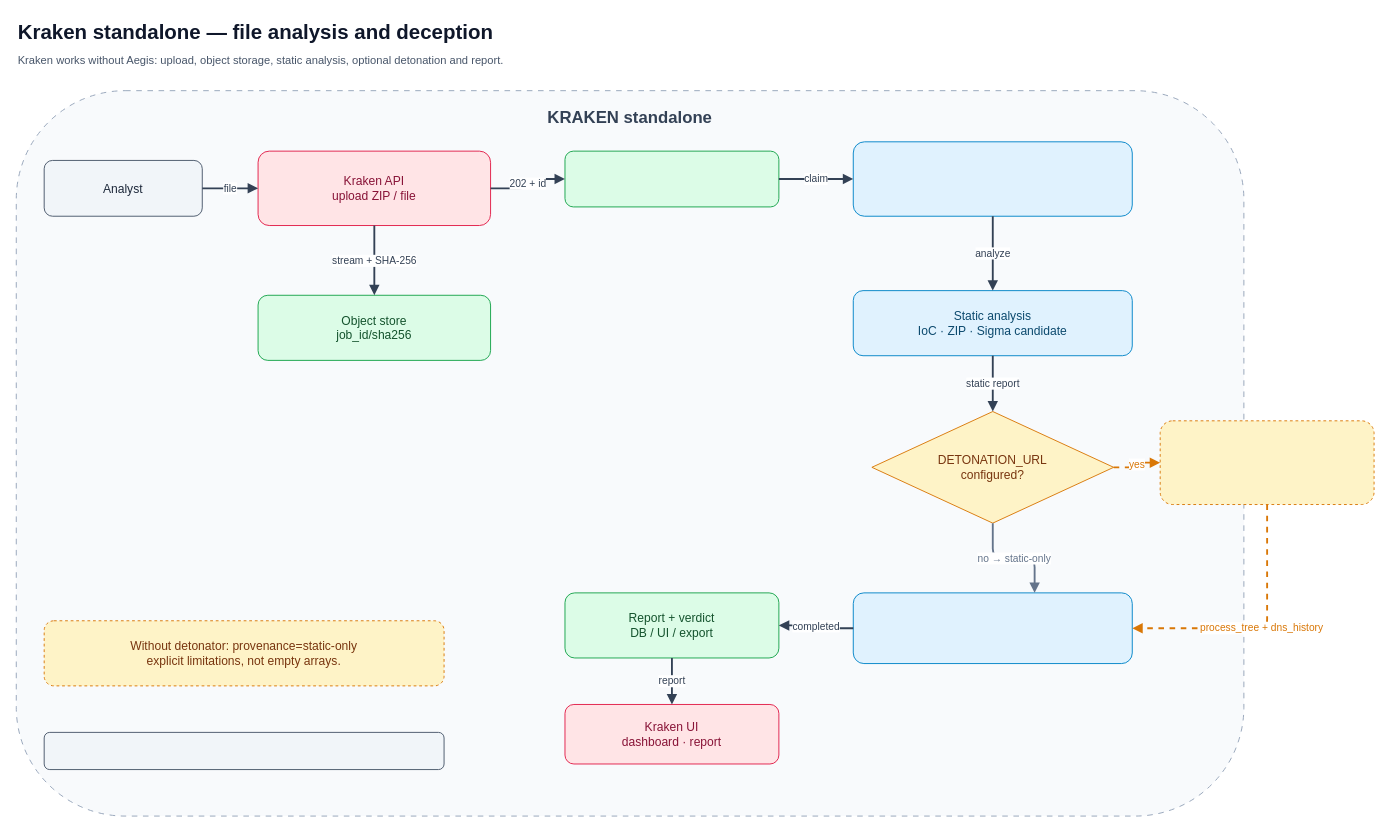
Image size: 1390x832. Some labels were removed from this diagram. Each missing label, with the box of its shape:
analysis_worker_loop Redis lease + recovery materialize: (852, 141, 1132, 216)
AnalysisJob status=queued: (564, 150, 779, 207)
HTTP detonator isolated VM/container: (1159, 420, 1374, 505)
Legend: dashed = optional or external path: (43, 731, 444, 770)
Merge report process tree · DNS · MITRE: (852, 592, 1132, 664)
